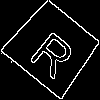R: (27, 23, 84, 81)
